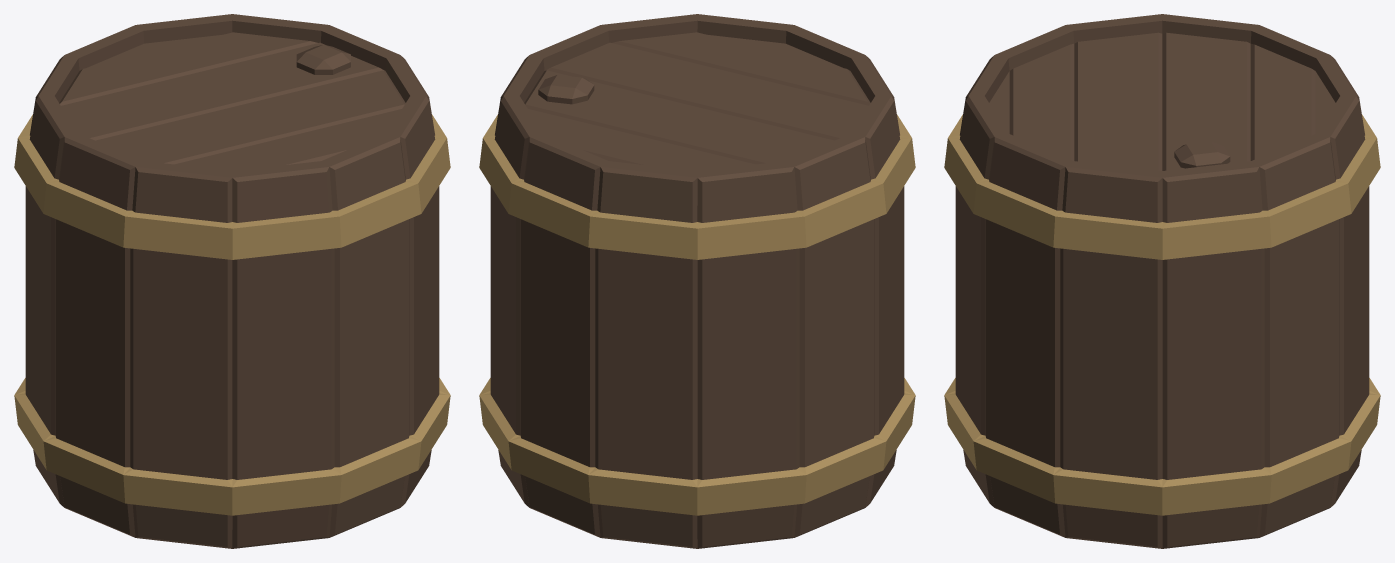
File: SM_Barrel_1B.fbx
3 renders of one model, left to right at view 1: azimuth 30°, elevation 25°; view 2: azimuth 150°, elevation 25°; view 3: azimuth 270°, elevation 25°, orthographic.
Visible parts, largest first — view 1: SM_Barrel_1B_LOD0; view 2: SM_Barrel_1B_LOD0; view 3: SM_Barrel_1B_LOD0.
Part boxes in pixels (<box>): SM_Barrel_1B_LOD0: <box>14,14,450,548</box>; SM_Barrel_1B_LOD0: <box>479,14,915,548</box>; SM_Barrel_1B_LOD0: <box>944,14,1380,548</box>.
Size of the model in its own units: 106 by 106 by 99.91.
1 material, 1 textured.
